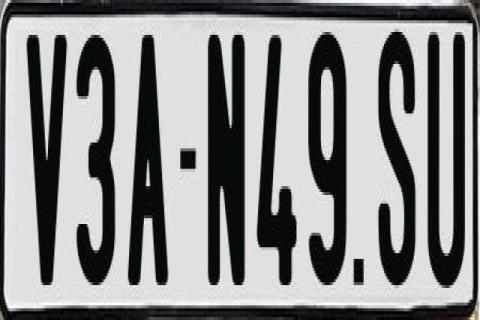0: (257, 29, 303, 291), (76, 32, 118, 300), (305, 29, 346, 299)
A: (126, 29, 167, 297)
N: (205, 32, 245, 294)
S: (379, 23, 422, 285)
U: (426, 23, 466, 297)
V: (24, 35, 70, 288)
